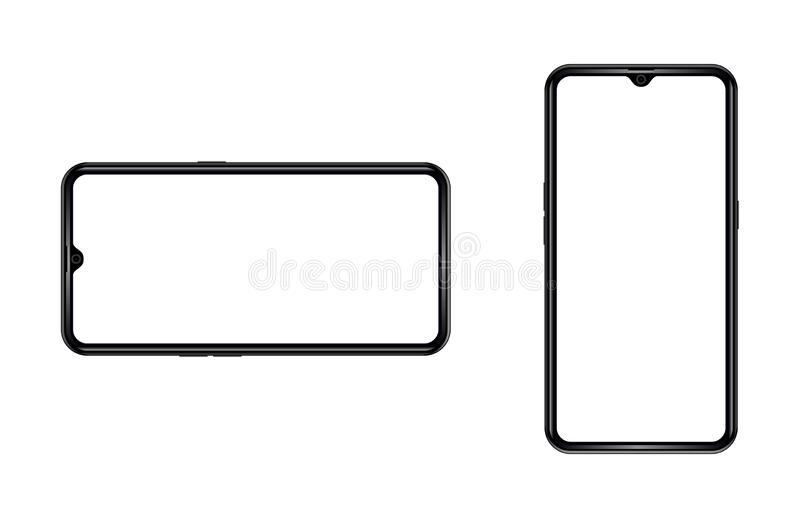phone: (536, 45, 747, 472), (47, 152, 457, 371)
